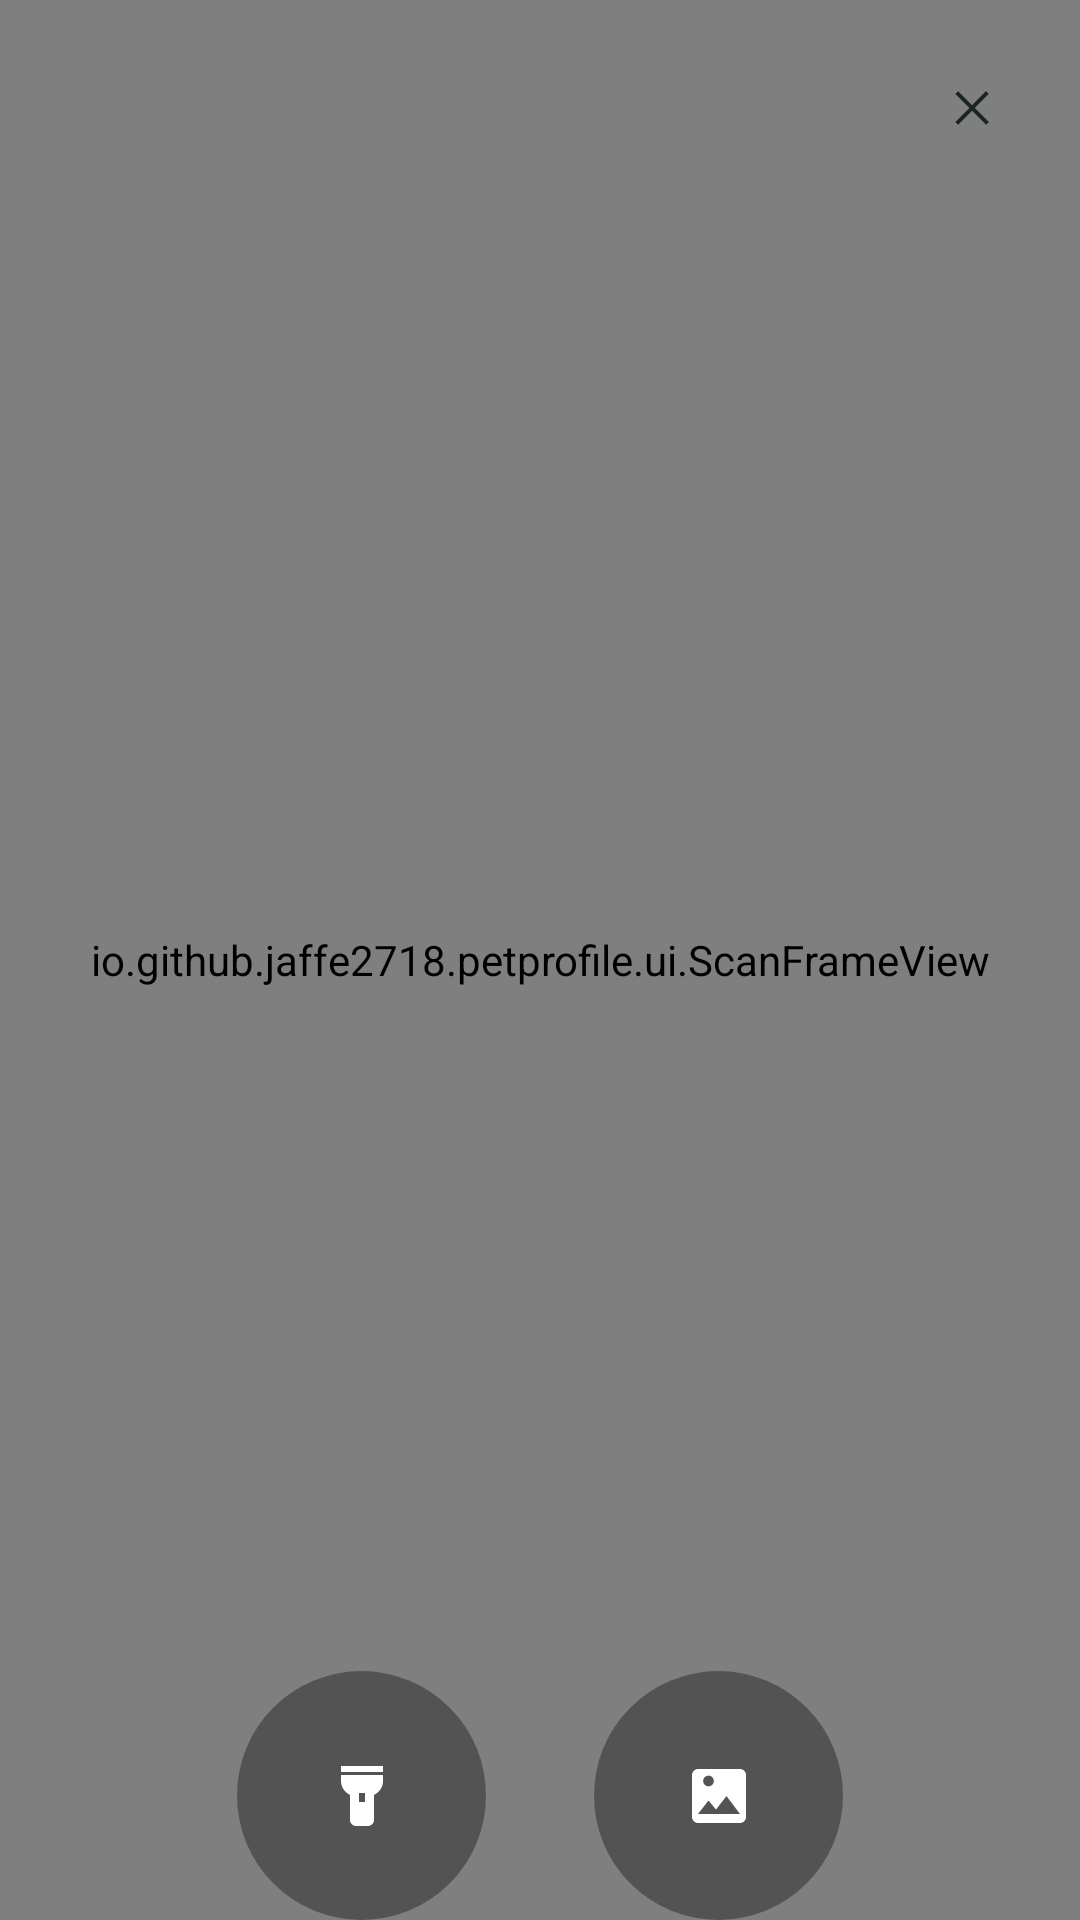

Icon click points for this 1080 x 1920 phone screenshot, format (x,y):
从相册选择: (718,1795)
取消: (972,108)
手电筒（已关闭）: (361,1795)
